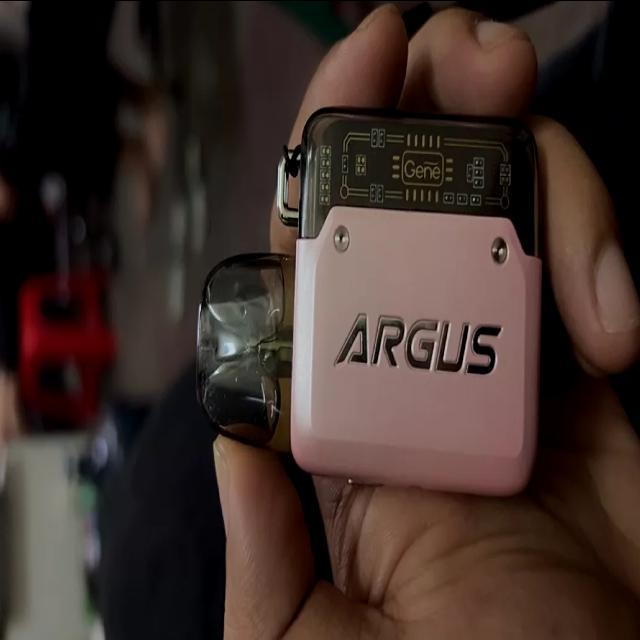Hazard: (194, 101, 545, 499)
